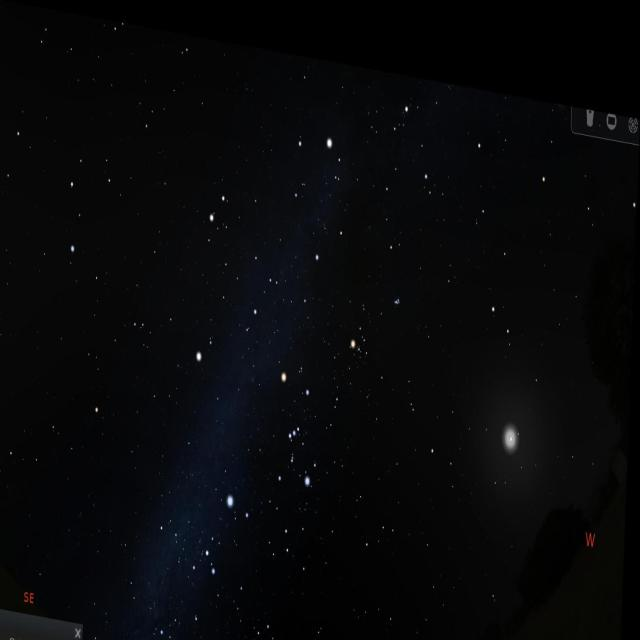canis_major: (204, 474, 256, 578)
canis_minor: (195, 322, 222, 364)
gemini: (204, 175, 278, 322)
moon: (504, 398, 523, 443)
orion: (280, 356, 320, 485)
pleiades: (393, 275, 402, 297)
taurus: (347, 253, 408, 365)
